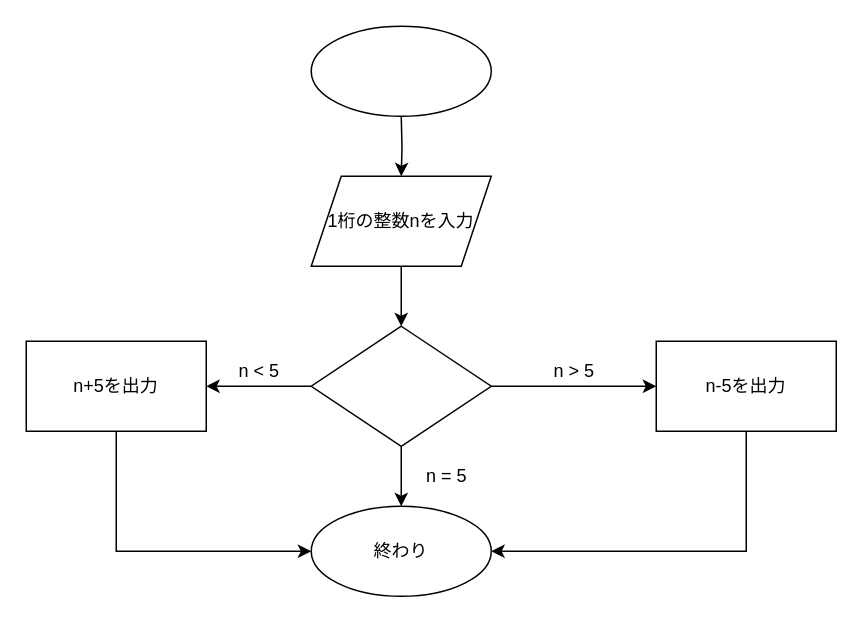
Some shapes in this 863 by 623 pixel diagram are drawn without their labels. Each missing label, with the centre of its shape:
nと5を比較: the point at 400,385
始め: the point at 400,70
